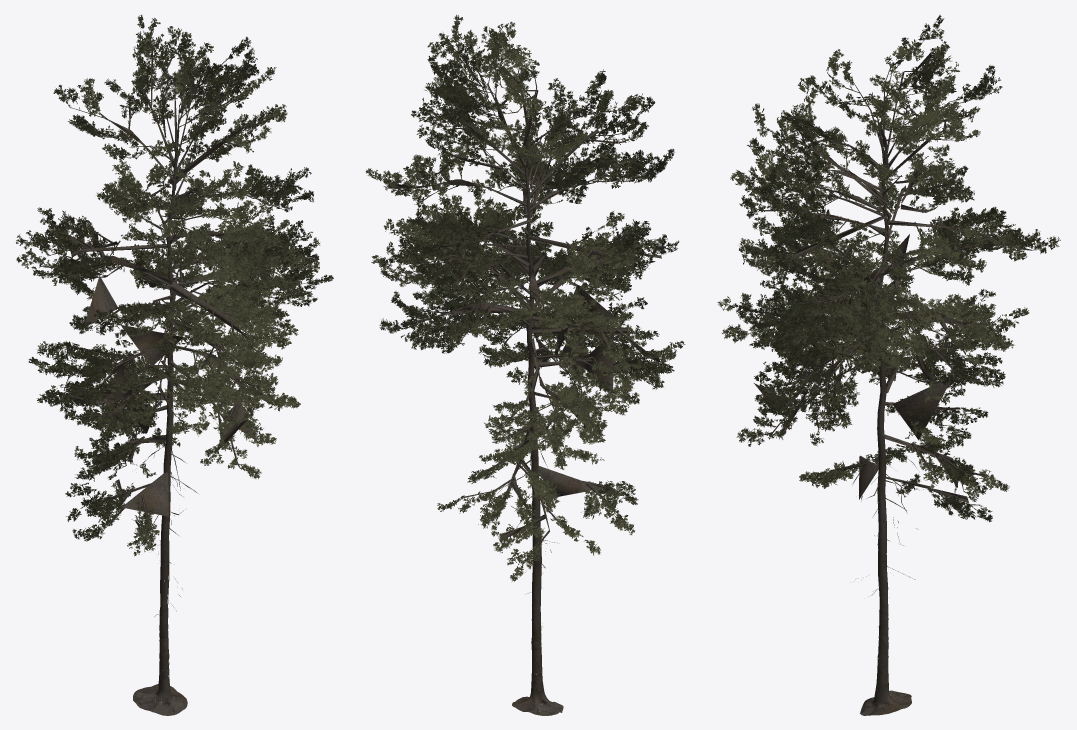
File: pine-tree-01-c.glb
The picture shows the model from 3 angles, left to right: view 1: azimuth 30°, elevation 25°; view 2: azimuth 150°, elevation 25°; view 3: azimuth 270°, elevation 25°; orthographic projection. The views are drawn at different scales.
Visible parts, largest first — view 1: pine_tree_01_c; view 2: pine_tree_01_c; view 3: pine_tree_01_c.
Part boxes in pixels (bbox=[...]): pine_tree_01_c: bbox=[16, 15, 333, 715]; pine_tree_01_c: bbox=[365, 14, 685, 715]; pine_tree_01_c: bbox=[717, 15, 1060, 715].
Size of the model in its own units: 7.64 by 17.58 by 7.92.
Materials: 2 (2 with a texture image).
